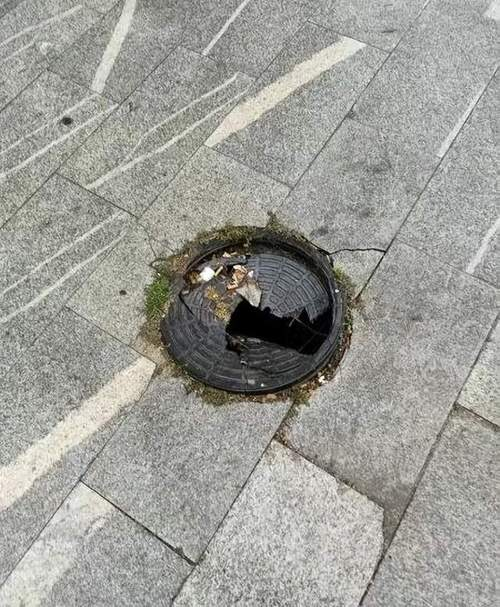broke: (130, 212, 385, 419)
